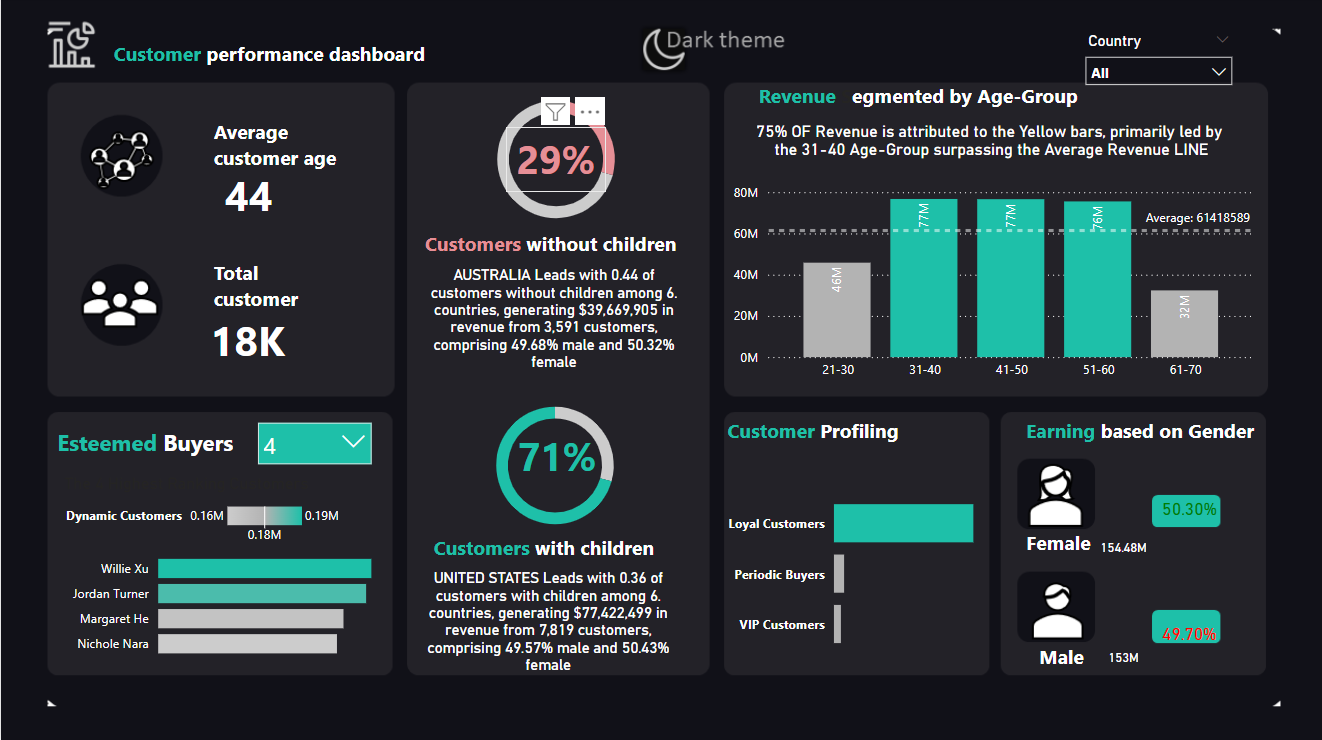

Layout of this report page (visuals, bound fields, positions):
{"tool":"powerbi","page":{"name":"Customer report","canvas":[1280,720],"ordinal":0},"visuals":[{"type":"clusteredColumnChart","fields":{"Y":["All Measures.Total Revenue","All Measures.Total Revenue"],"Category":["DimCustomer.Age Category"]},"box":[702.5,159.3,513.6,218.5],"z":0},{"type":"card","fields":{"Values":["Customer Measures.Avg Caption"]},"box":[696.3,108.6,519.8,61.7],"z":1000},{"type":"textbox","box":[725.9,77.8,337,43.2],"z":2000},{"type":"donutChart","fields":{"Y":["Customer Measures.% C without children","Customer Measures.% CWC"]},"box":[440.6,80.6,191,152],"z":3000},{"type":"donutChart","fields":{"Y":["Customer Measures.% C without children","Customer Measures.% CWC"]},"box":[439.5,376.5,191.4,151.9],"z":4000},{"type":"card","fields":{"Values":["Customer Measures.% C without children"]},"box":[487.1,125.8,96.4,61.9],"z":5000},{"type":"card","fields":{"Values":["Customer Measures.% CWC"]},"box":[489.9,412.3,93.8,61.7],"z":6000},{"type":"textbox","box":[412.3,513.6,245.7,39.5],"z":7000},{"type":"textbox","box":[403.7,221,264.2,39.5],"z":8000},{"type":"card","fields":{"Values":["Customer Measures.Caption Customer without children"]},"box":[395.1,240.7,284,137],"z":9000},{"type":"card","fields":{"Values":["Customer Measures.Caption Customer with children"]},"box":[384,518.5,295.1,146.9],"z":10000},{"type":"clusteredBarChart","fields":{"Category":["DimCustomer.Customer Type"],"Y":["All Measures.Total Revenue"]},"box":[696.1,457.2,260.6,193],"z":11000},{"type":"clusteredBarChart","fields":{"Category":["DimCustomer.Full Name"],"Y":["All Measures.Dynamic Customers"]},"box":[58,484,311.1,165.4],"z":12000},{"type":"slicer","fields":{"Values":["Dynamic customer.Dynamic customer"]},"box":[238.3,400,129.6,60.5],"z":13000},{"type":"card","fields":{"Values":["Customer Measures.%Female"]},"box":[1096.3,469.1,101.2,51.9],"z":14000},{"type":"card","fields":{"Values":["Customer Measures.%Male"]},"box":[1096.3,592.6,101.2,45.7],"z":15000},{"type":"card","fields":{"Values":["Customer Measures.Average Customer Age"]},"box":[188.1,152.3,102.5,76.5],"z":16000},{"type":"card","fields":{"Values":["Customer Measures.#Customers"]},"box":[186.9,291.9,102.5,76.5],"z":17000},{"type":"textbox","box":[200.5,111.6,139.5,70.4],"z":18000},{"type":"textbox","box":[200.5,248.6,111.1,66.7],"z":19000},{"type":"textbox","box":[976.5,509.9,95.1,39.5],"z":20000},{"type":"textbox","box":[984,618.5,79,39.5],"z":21000},{"type":"textbox","box":[49.4,409.9,188.9,43.2],"z":22000},{"type":"card","fields":{"Values":["Customer Measures.Title Top Customers"]},"box":[46.9,455.6,264.2,28.4],"z":23000},{"type":"textbox","box":[984.5,400.5,261.8,42.2],"z":24000},{"type":"card","fields":{"Values":["Customer Measures.Female Revenue"]},"box":[1053.1,507.4,60.5,50.6],"z":25000},{"type":"card","fields":{"Values":["Customer Measures.Male Revenue"]},"box":[1053.1,613.6,60.5,50.6],"z":26000},{"type":"textbox","box":[103.7,37,337,43.2],"z":27000},{"type":"slicer","fields":{"Values":["DimGeography.Country"]},"box":[1035.8,28.4,161.7,63],"z":28000},{"type":"textbox","box":[696.1,400.5,261.8,42.2],"z":29000}]}

Visuals, with their boxes in screenshot pixels (x1, y1, x2, y2), scaled from the page's 1280x720 canvas onto the 1322x740 screenshot:
clusteredColumnChart - All Measures.Total Revenue x All Measures.Total Revenue: 726, 164, 1256, 388
card - Customer Measures.Avg Caption: 719, 112, 1256, 175
textbox: 750, 80, 1098, 124
donutChart - Customer Measures.% C without children x Customer Measures.% CWC: 455, 83, 652, 239
donutChart - Customer Measures.% C without children x Customer Measures.% CWC: 454, 387, 652, 543
card - Customer Measures.% C without children: 503, 129, 603, 193
card - Customer Measures.% CWC: 506, 424, 603, 487
textbox: 426, 528, 680, 568
textbox: 417, 227, 690, 268
card - Customer Measures.Caption Customer without children: 408, 247, 701, 388
card - Customer Measures.Caption Customer with children: 397, 533, 701, 684
clusteredBarChart - DimCustomer.Customer Type x All Measures.Total Revenue: 719, 470, 988, 668
clusteredBarChart - DimCustomer.Full Name x All Measures.Dynamic Customers: 60, 497, 381, 667
slicer - Dynamic customer.Dynamic customer: 246, 411, 380, 473
card - Customer Measures.%Female: 1132, 482, 1237, 535
card - Customer Measures.%Male: 1132, 609, 1237, 656
card - Customer Measures.Average Customer Age: 194, 157, 300, 235
card - Customer Measures.#Customers: 193, 300, 299, 379
textbox: 207, 115, 351, 187
textbox: 207, 256, 322, 324
textbox: 1009, 524, 1107, 565
textbox: 1016, 636, 1098, 676
textbox: 51, 421, 246, 466
card - Customer Measures.Title Top Customers: 48, 468, 321, 497
textbox: 1017, 412, 1287, 455
card - Customer Measures.Female Revenue: 1088, 521, 1150, 574
card - Customer Measures.Male Revenue: 1088, 631, 1150, 683
textbox: 107, 38, 455, 82
slicer - DimGeography.Country: 1070, 29, 1237, 94
textbox: 719, 412, 989, 455
